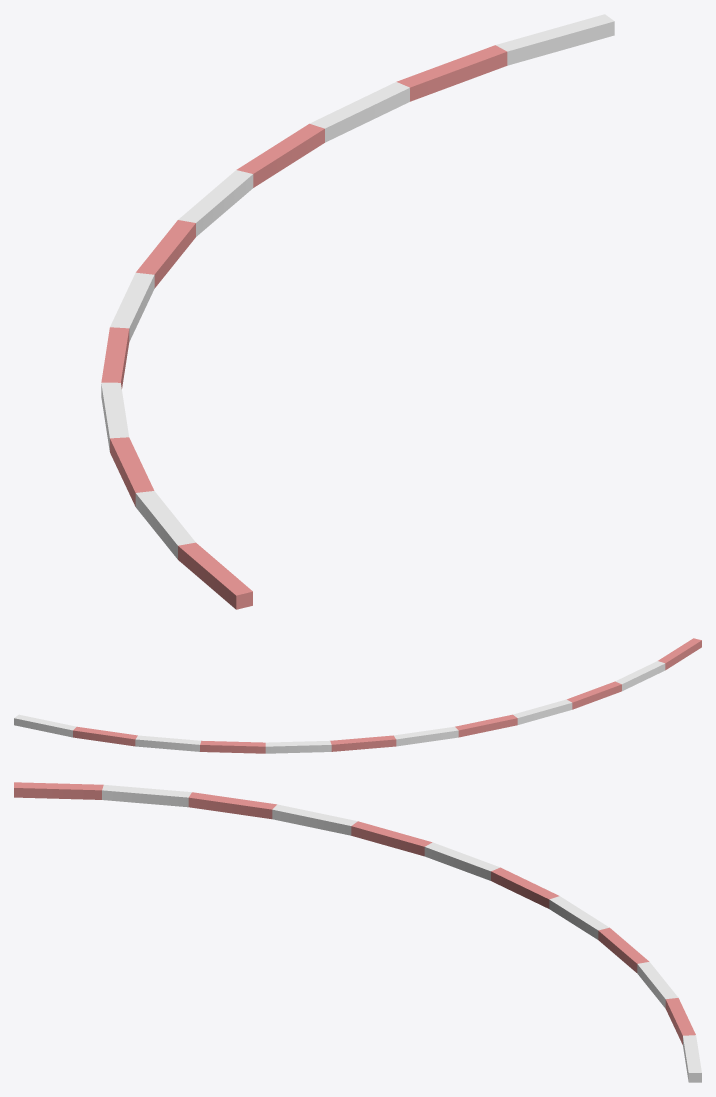
The model's file is kenney-racing-road-corner-large-wall.glb.
3 renders of one model, top to bottom at view 1: azimuth 30°, elevation 25°; view 2: azimuth 150°, elevation 25°; view 3: azimuth 270°, elevation 25°, orthographic. The views are drawn at different scales.
Visible parts, largest first — view 1: roadCornerLargeWall(Clone); view 2: roadCornerLargeWall(Clone); view 3: roadCornerLargeWall(Clone).
Boxes of the visible parts, <box> form: roadCornerLargeWall(Clone): <box>101,14,614,609</box>; roadCornerLargeWall(Clone): <box>14,638,701,753</box>; roadCornerLargeWall(Clone): <box>14,782,701,1082</box>.
Bounding box in the file's own units: 2.58 × 0.04 × 2.58.
